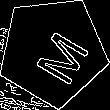M_NW: (20, 19, 86, 84)
